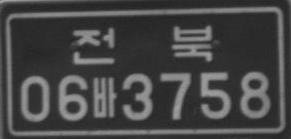0: (19, 73, 51, 122)
3: (121, 71, 153, 121)
5: (199, 71, 232, 121)
6: (56, 74, 89, 122)
7: (159, 72, 192, 121)
8: (239, 70, 271, 119)
바: (92, 76, 118, 118)
전북_D: (72, 24, 213, 65)
